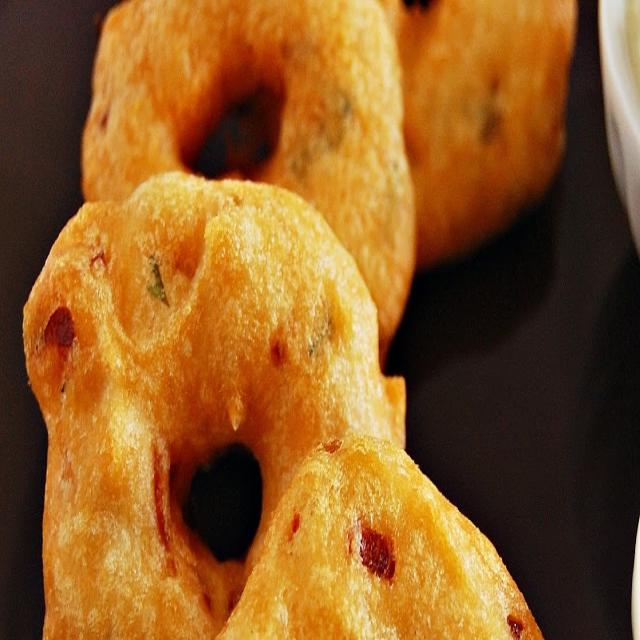medu vadai: (23, 173, 405, 637), (82, 0, 415, 351), (218, 436, 542, 639), (380, 0, 577, 268)
